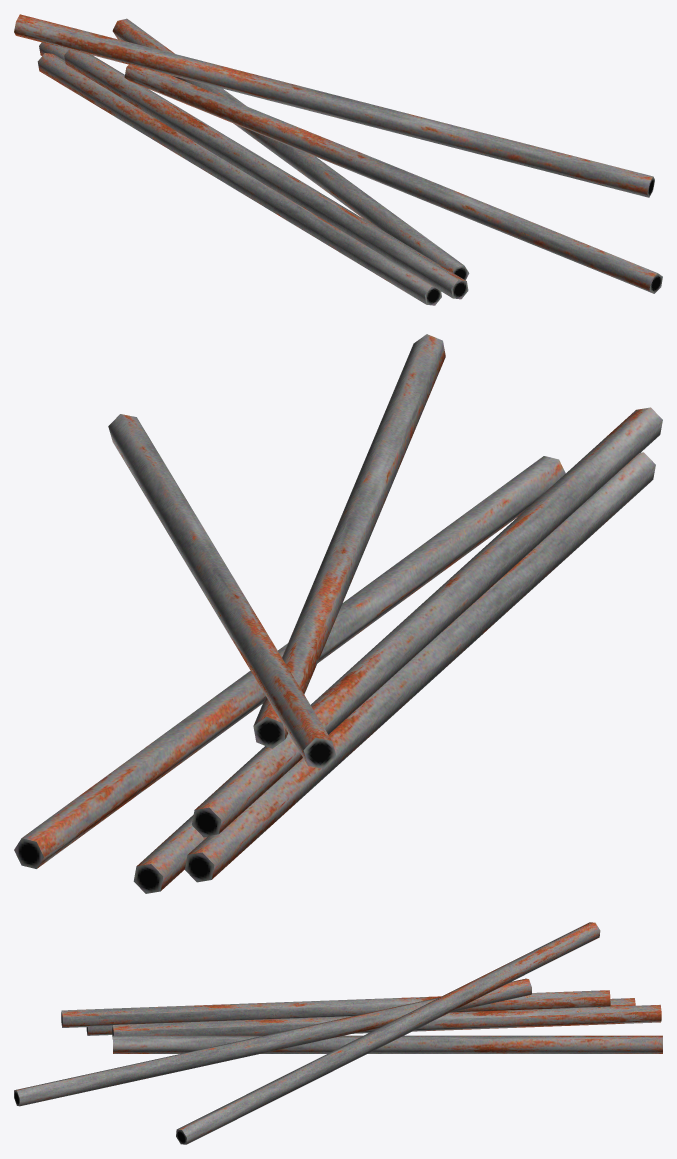
Rendered from SM_ScaffPipe.fbx.
3 views of the same model, one above another, from view 1: azimuth 30°, elevation 25°; view 2: azimuth 150°, elevation 25°; view 3: azimuth 270°, elevation 25° (orthographic). The views are drawn at different scales.
Parts seen in each view (by area): view 1: ScaffPipe001; view 2: ScaffPipe001; view 3: ScaffPipe001.
Part boxes in pixels (left/top/right/bottom): ScaffPipe001: left=14, top=14, right=662, bottom=305; ScaffPipe001: left=14, top=334, right=662, bottom=893; ScaffPipe001: left=14, top=922, right=662, bottom=1144.
Size of the model in its own units: 121 by 212 by 26.14.
1 material, 1 textured.
